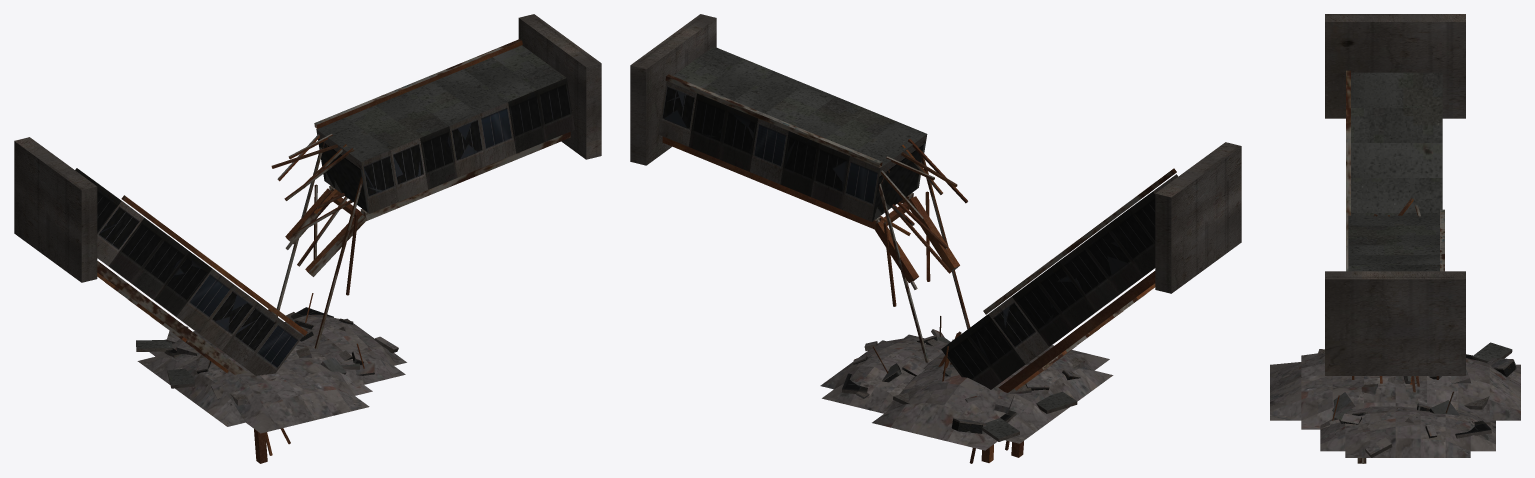
File: Building_BridgeWreck.fbx
The picture shows the model from 3 angles, left to right: view 1: azimuth 30°, elevation 25°; view 2: azimuth 150°, elevation 25°; view 3: azimuth 270°, elevation 25°; orthographic projection. The views are drawn at different scales.
Parts seen in each view (by area): view 1: Building_BridgeWreck; view 2: Building_BridgeWreck; view 3: Building_BridgeWreck.
Part boxes in pixels (x1,y1,x2,y2): Building_BridgeWreck: [14, 14, 601, 463]; Building_BridgeWreck: [630, 14, 1241, 463]; Building_BridgeWreck: [1270, 14, 1520, 463].
Size of the model in its own units: 100 by 61.1 by 40.
1 material, 1 textured.
